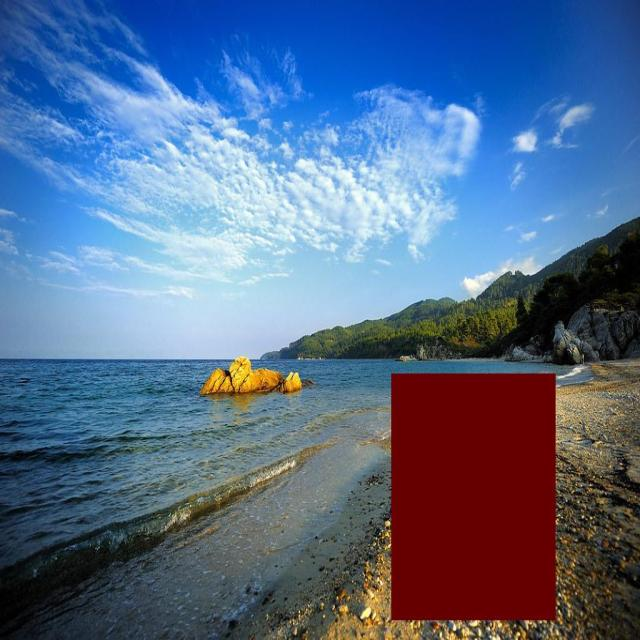RedSquare: (386, 368, 562, 626)
